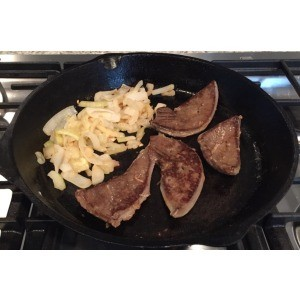liver_brain food: (119, 132, 227, 209)
